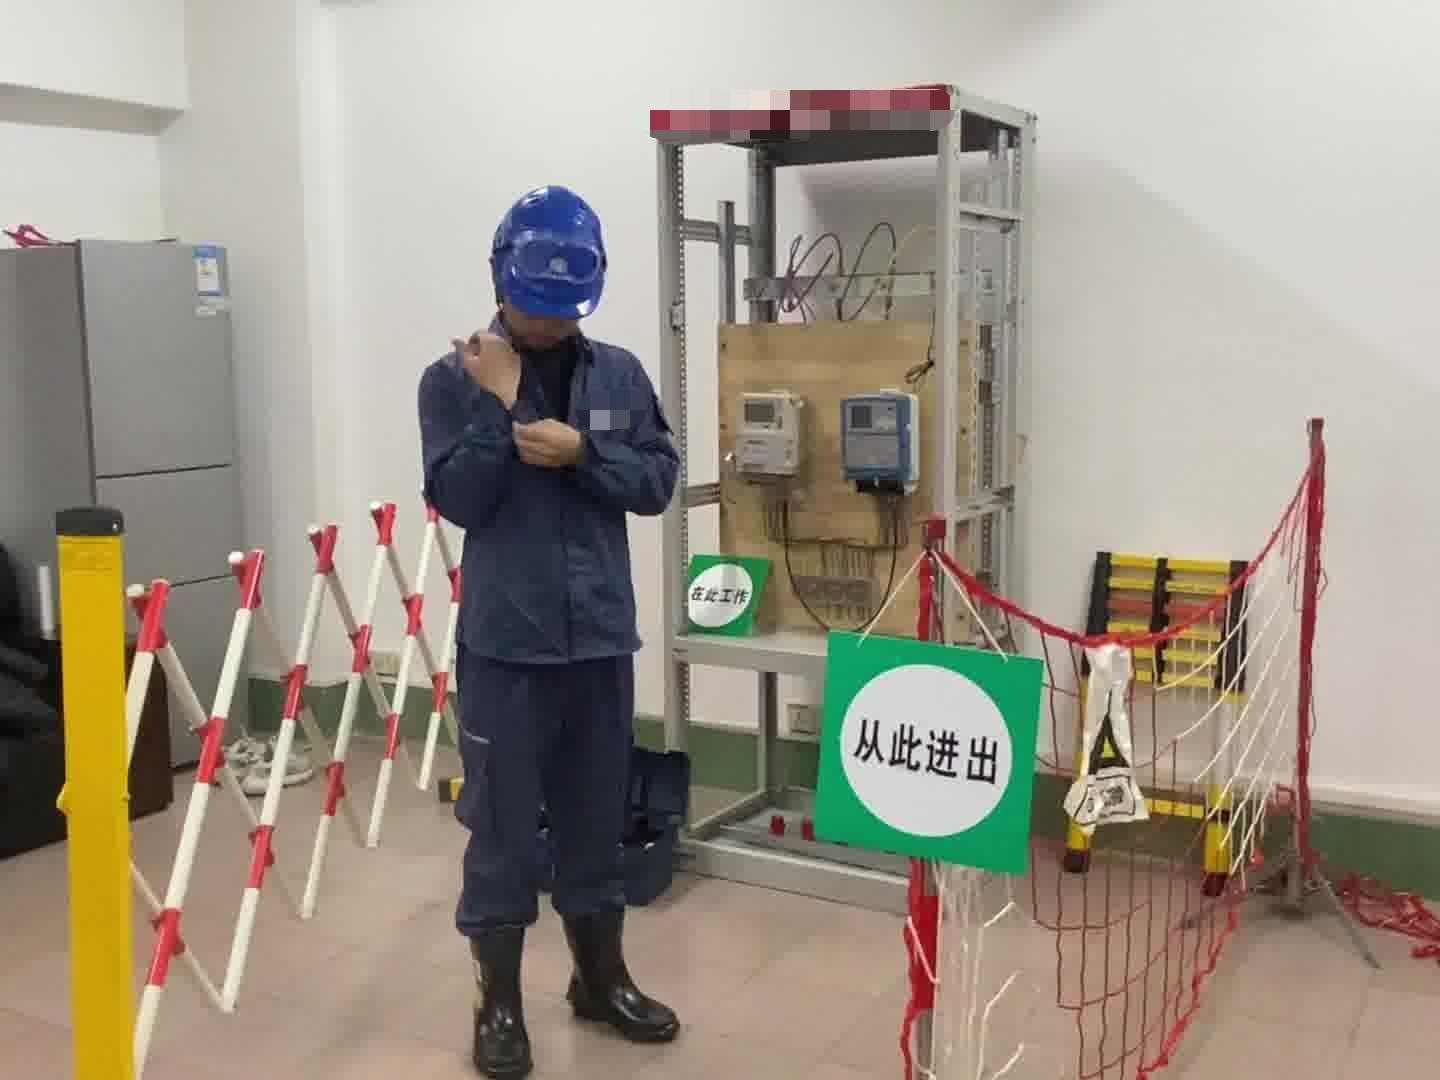halt: (489, 188, 612, 343)
